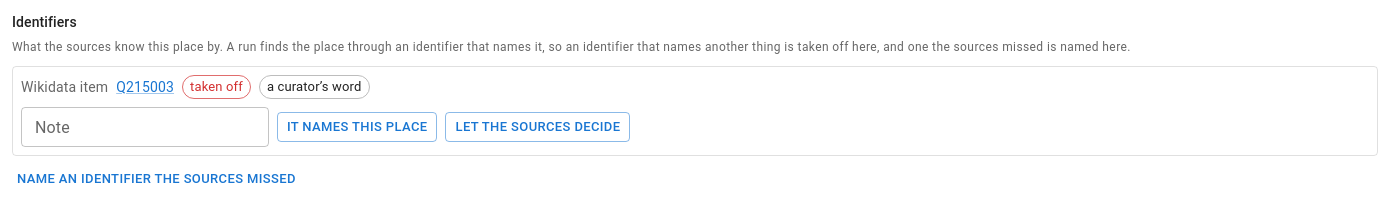
Test case: PlaceIdentifiers › offers the way back once a word stands, and the add form only when asked
The width and height of the screenshot is (1378, 221).
Expected: the text "taken off" is shown, [190,79,243,94]
Expected: the button "Let the sources decide" is shown, [446,112,630,142]
Click the button "Name an identifier the sources missed". click: (156, 179)
box: [12,164,301,195]
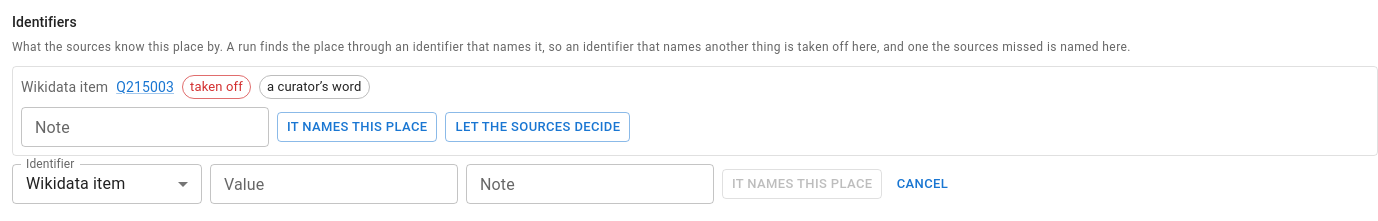
Expected: the dropdown is shown, [26,174,125,193]
